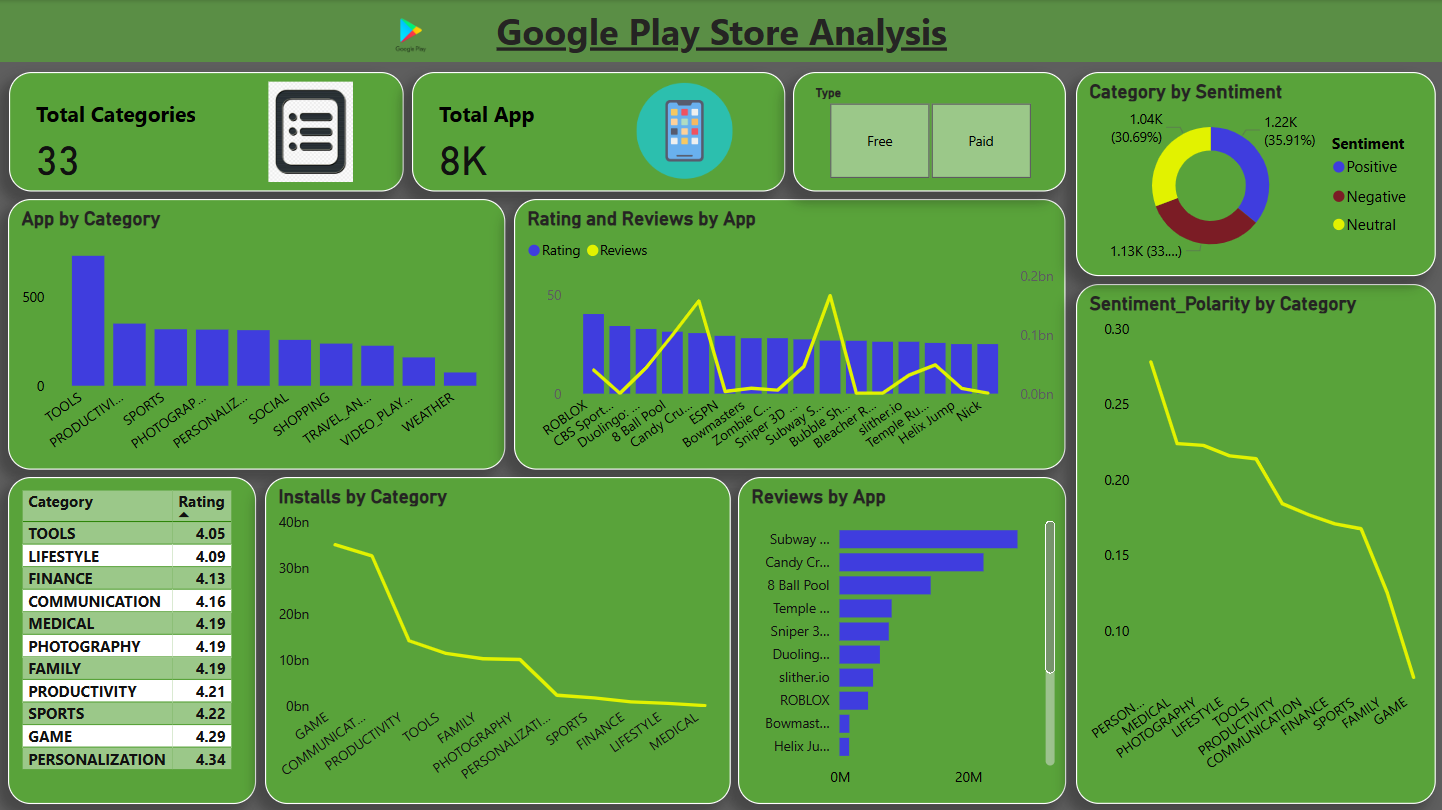

Layout of this report page (visuals, bound fields, positions):
{"tool":"powerbi","page":{"name":"Page 1","canvas":[1280,720],"ordinal":0},"visuals":[{"type":"textbox","box":[0,0,1280,55.3],"z":0},{"type":"cardVisual","title":"Total Category","fields":{"Data":["googleplaystore.Total Categories"]},"box":[7.7,63.8,349.7,106.3],"z":1000},{"type":"cardVisual","title":"Total App","fields":{"Data":["googleplaystore.Total App"]},"box":[365.2,63.8,331.4,106.3],"z":2000},{"type":"clusteredColumnChart","fields":{"Category":["googleplaystore.Category"],"Y":["CountNonNull(googleplaystore.App)"]},"box":[6.8,176.8,440.5,239.6],"z":3000},{"type":"lineStackedColumnComboChart","fields":{"Category":["googleplaystore.App"],"Y":["Sum(googleplaystore.Rating)"],"Y2":["Sum(googleplaystore.Reviews)"]},"box":[456,176.8,488.8,239.6],"z":4000},{"type":"clusteredBarChart","fields":{"Category":["googleplaystore.App"],"Y":["Max(googleplaystore.Reviews)"]},"box":[654,423.1,290.8,289.8],"z":5000},{"type":"tableEx","fields":{"Values":["googleplaystore.Category","Avg(googleplaystore.Rating)"]},"box":[6.8,423.1,220.3,289.8],"z":6000},{"type":"lineChart","fields":{"Category":["googleplaystore.Category"],"Y":["Sum(googleplaystore.Installs)"]},"box":[235,423,413.2,290],"z":7000},{"type":"lineChart","fields":{"Category":["googleplaystore.Category"],"Y":["Avg(googleplaystore_user_reviews.Sentiment_Polarity)"]},"box":[954.4,252.1,318.8,460.8],"z":8000},{"type":"donutChart","fields":{"Category":["googleplaystore_user_reviews.Sentiment"],"Y":["CountNonNull(googleplaystore.Category)"]},"box":[954.4,63.8,318.8,180.6],"z":9000},{"type":"slicer","title":"Type","fields":{"Values":["googleplaystore.Type"]},"box":[703.3,63.8,241.5,106.3],"z":10000},{"type":"image","box":[559.3,66.7,94.7,99.5],"z":11000},{"type":"image","box":[227,67.6,97.6,98.5],"z":12000},{"type":"image","box":[315.9,5.8,97.6,49.3],"z":13000}]}

Visuals, with their boxes in screenshot pixels (x1, y1, x2, y2), scaled from the page's 1280x720 canvas onto the 1442x810 screenshot:
textbox: box=[0, 0, 1441, 62]
"Total Category" cardVisual: box=[9, 72, 403, 191]
"Total App" cardVisual: box=[411, 72, 785, 191]
clusteredColumnChart - googleplaystore.Category x CountNonNull(googleplaystore.App): box=[8, 199, 504, 468]
lineStackedColumnComboChart - googleplaystore.App x Sum(googleplaystore.Rating): box=[514, 199, 1064, 468]
clusteredBarChart - googleplaystore.App x Max(googleplaystore.Reviews): box=[737, 476, 1064, 802]
tableEx - googleplaystore.Category x Avg(googleplaystore.Rating): box=[8, 476, 256, 802]
lineChart - googleplaystore.Category x Sum(googleplaystore.Installs): box=[265, 476, 730, 802]
lineChart - googleplaystore.Category x Avg(googleplaystore_user_reviews.Sentiment_Polarity): box=[1075, 284, 1434, 802]
donutChart - googleplaystore_user_reviews.Sentiment x CountNonNull(googleplaystore.Category): box=[1075, 72, 1434, 275]
"Type" slicer: box=[792, 72, 1064, 191]
image: box=[630, 75, 737, 187]
image: box=[256, 76, 366, 187]
image: box=[356, 7, 466, 62]
